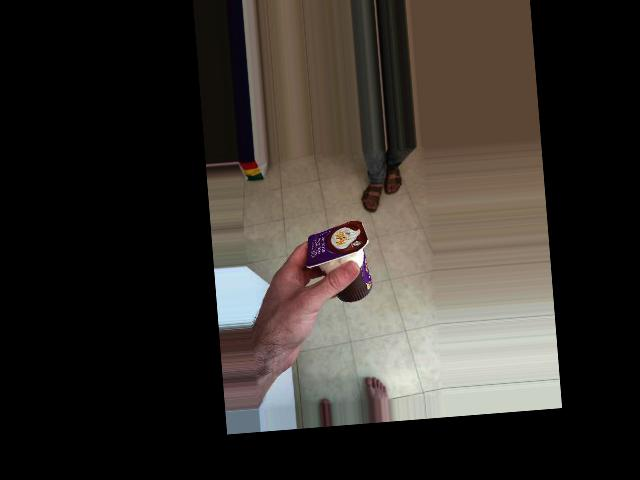milky: (309, 213, 399, 281)
